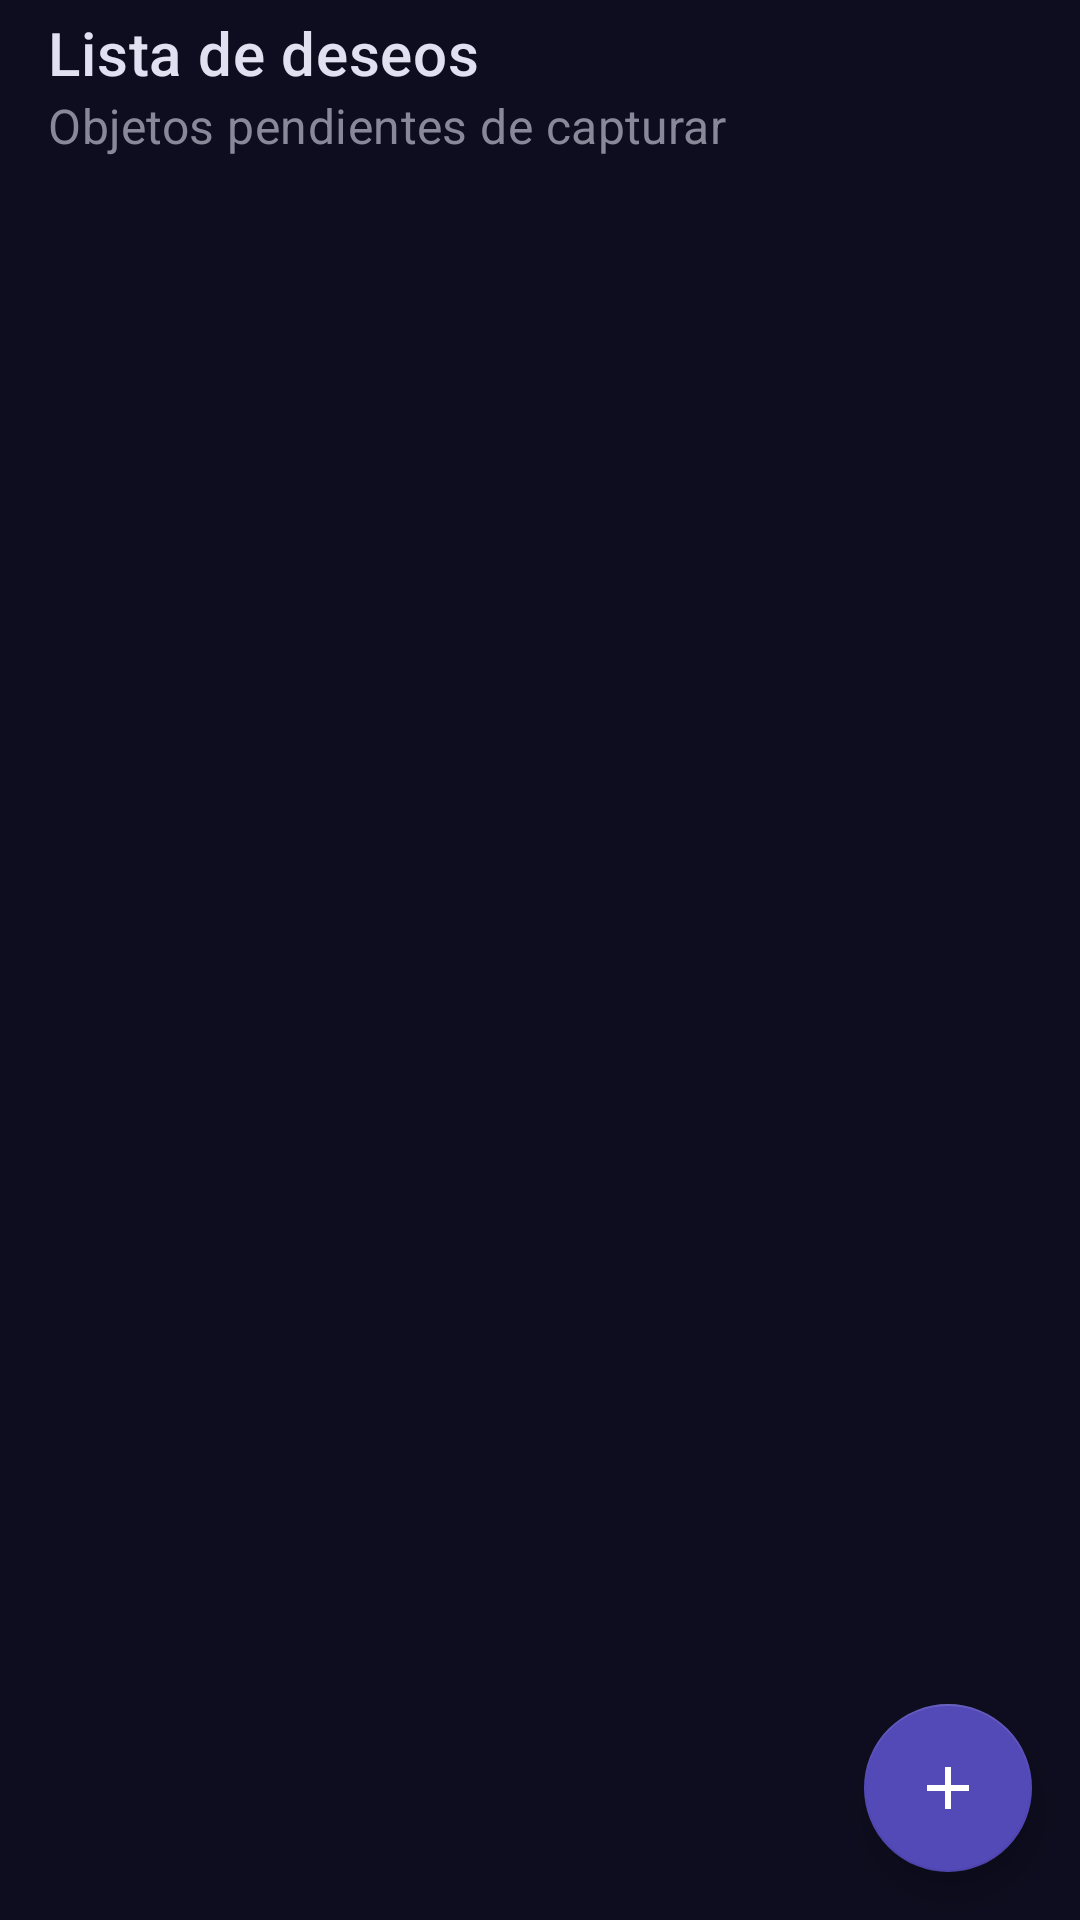

Icons on this 1080w x 1920h Android screen, each with its box as [left=x1, top=y1, right=x2, bottom=y2]:
Añadir objeto: [left=864, top=1704, right=1032, bottom=1872]
